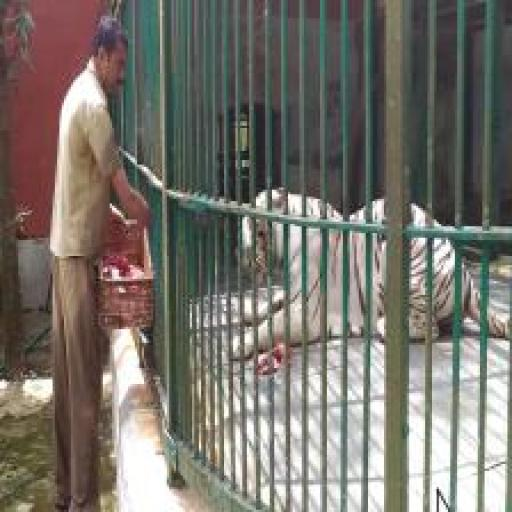Tiger: (231, 185, 512, 361)
